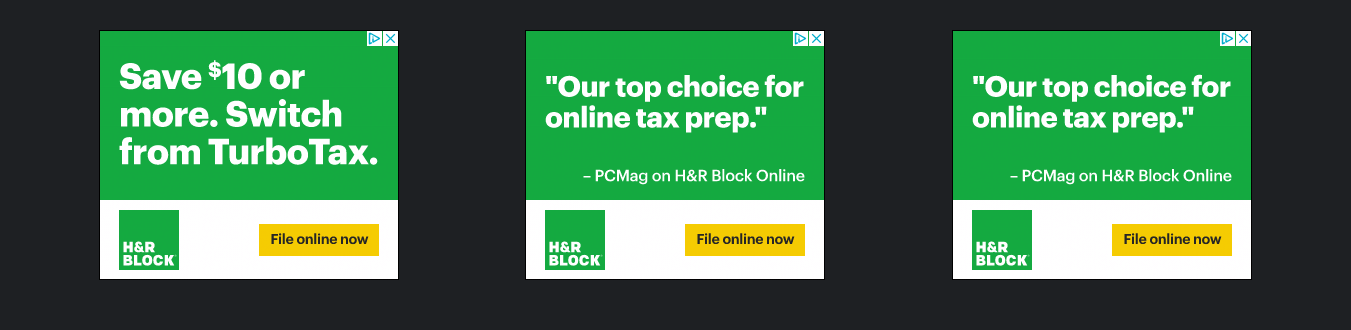fake_button: (673, 210, 813, 265), (1102, 221, 1241, 268), (249, 219, 385, 265)
